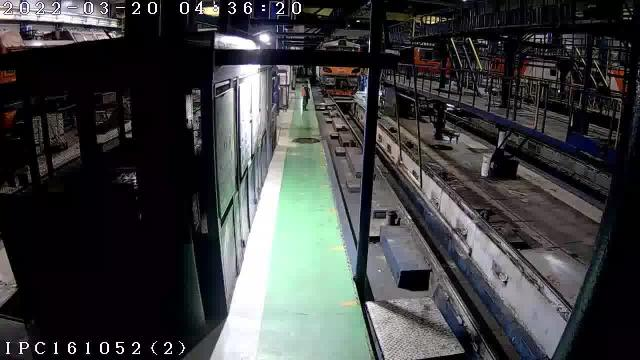person: (303, 85, 310, 110)
train: (316, 66, 361, 95)
